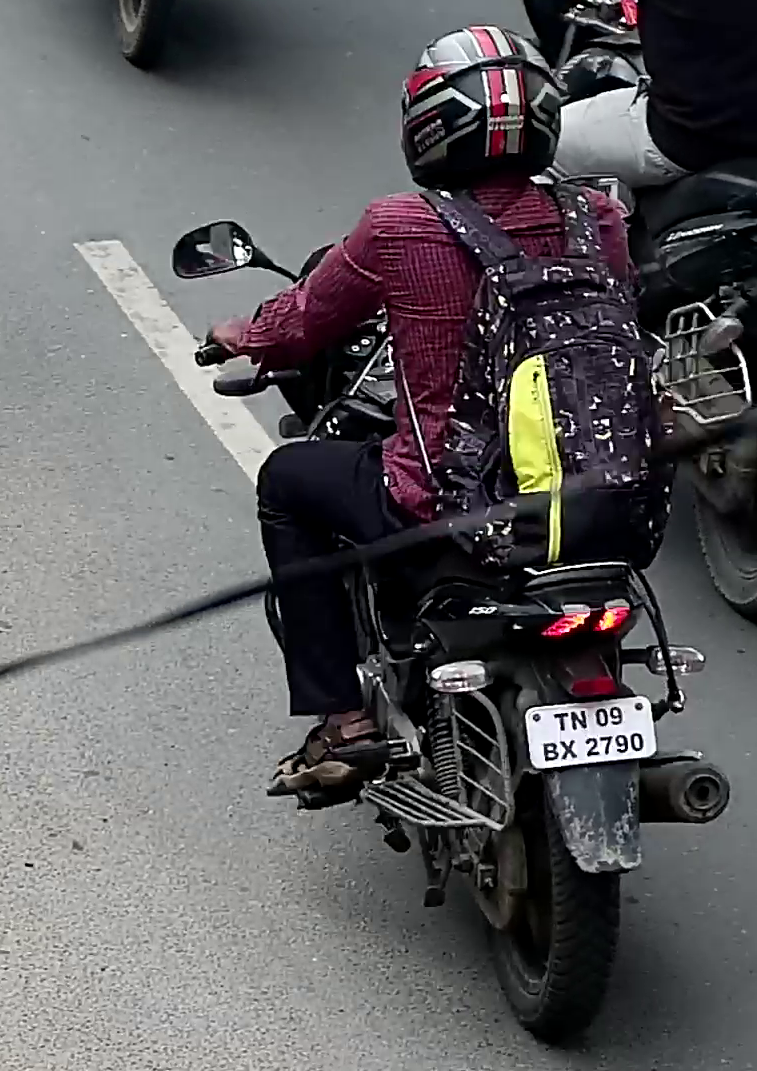0: (629, 732, 644, 752), (595, 708, 609, 727)
2: (585, 737, 600, 756)
7: (600, 735, 613, 755)
9: (614, 734, 629, 753), (609, 706, 623, 726)
B: (542, 742, 559, 762)
N: (570, 709, 588, 731)
P16: (524, 695, 657, 771)
T: (553, 712, 569, 731)
X: (560, 739, 577, 760)
